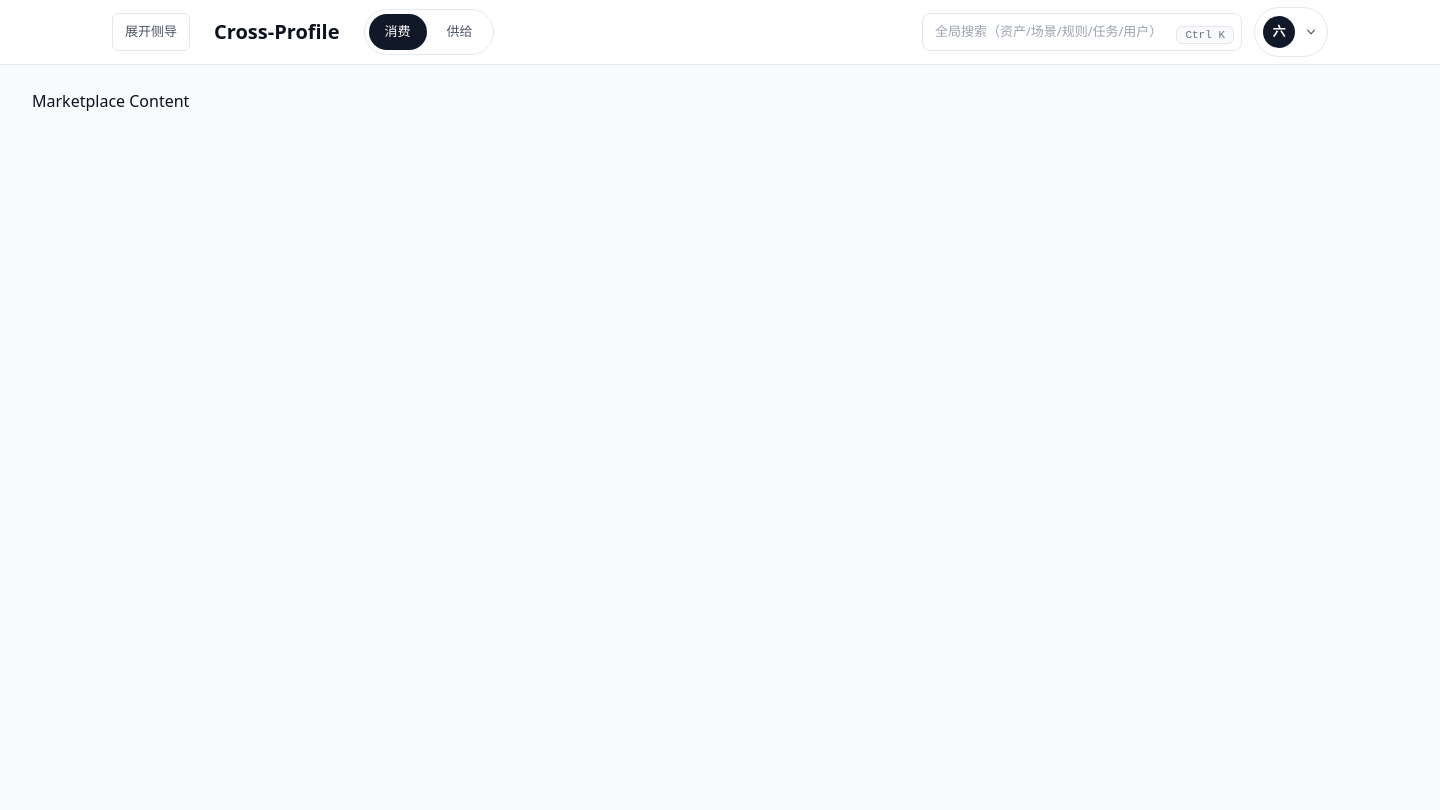
it: App layout › 在 consumer 有侧导页面默认收起侧导，并可通过 toggle 展开和再次收起
Expected: the text "Marketplace Content" is shown, [32,90,189,112]
Expected: the button "消费" is shown, [368,14,426,50]
Click the button with aria-label "展开侧边导航": (151, 32) [112,13,190,51]
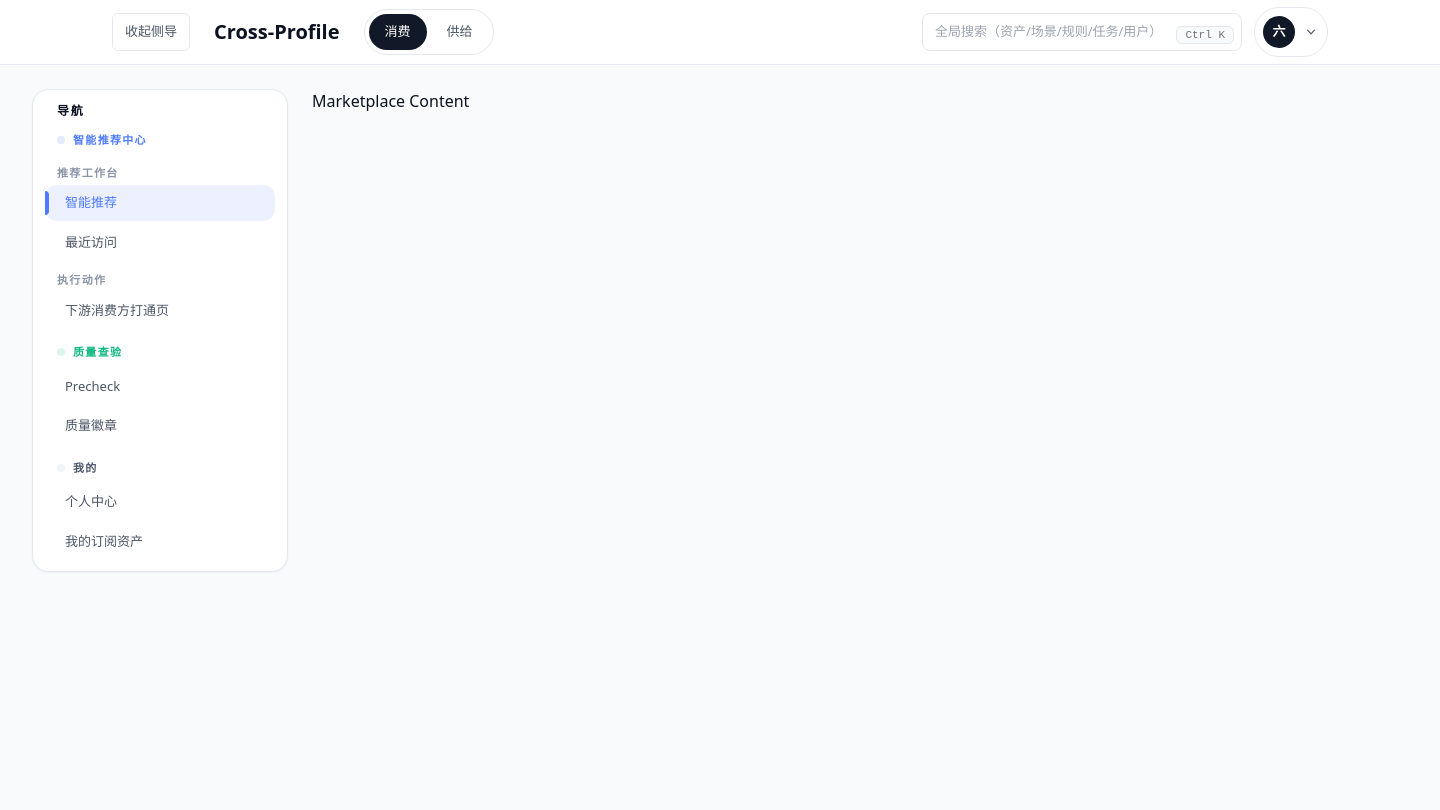
Expected: the navigation bar named "侧边导航" is shown, [45,132,275,559]
Click the button with aria-label "收起侧边导航": (151, 32) [112,13,190,51]
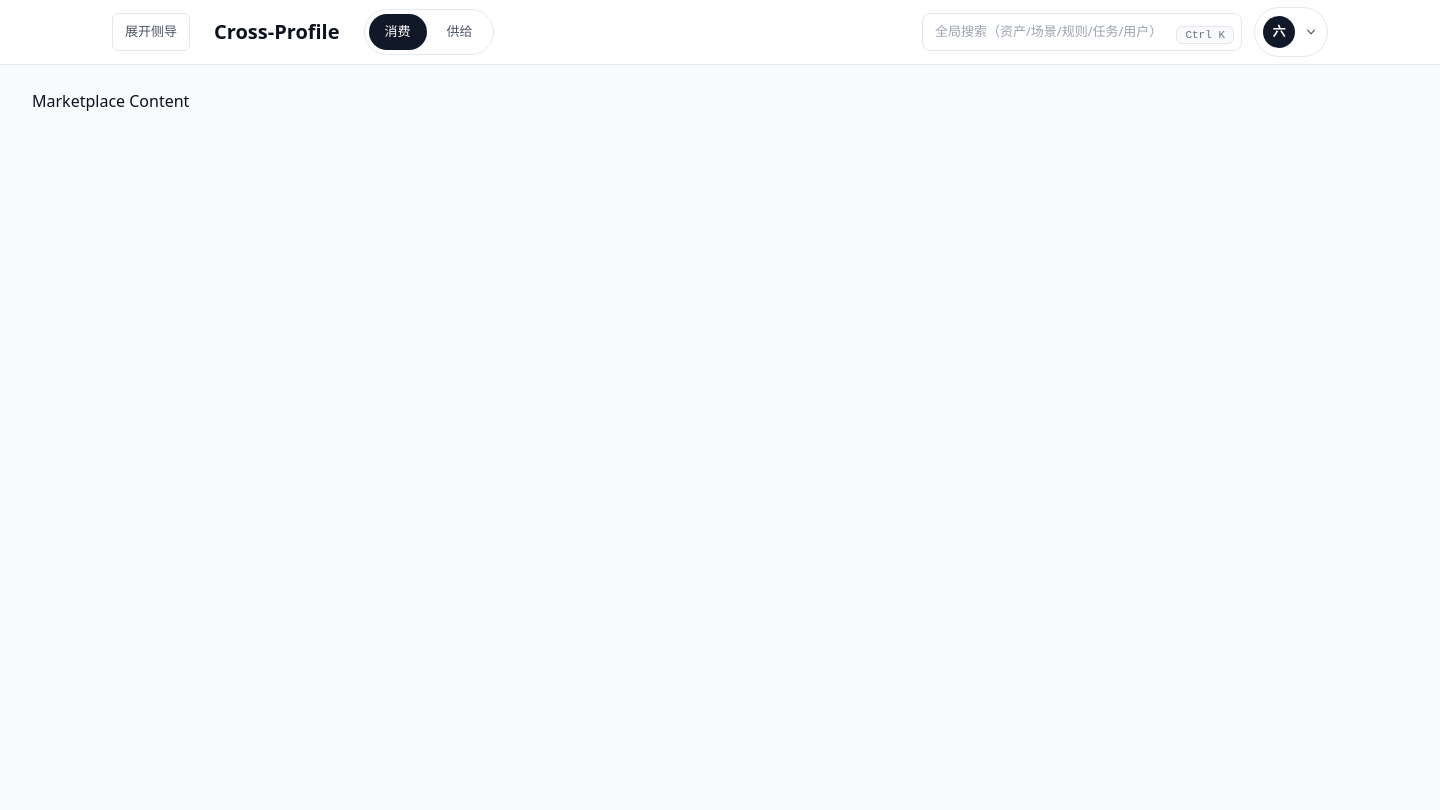
Expected: the navigation bar "侧边导航" is gone
